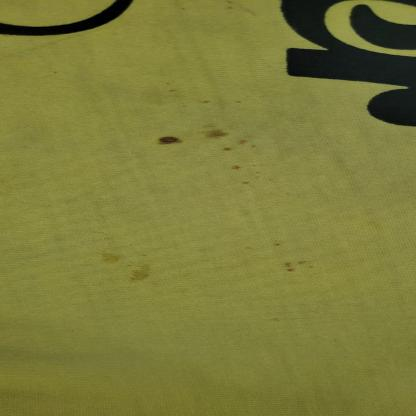spot: (116, 119, 287, 190), (87, 126, 262, 140), (171, 102, 227, 141), (116, 237, 154, 286), (146, 117, 196, 154), (226, 157, 263, 182), (279, 256, 327, 274), (220, 143, 246, 175), (91, 249, 132, 265), (192, 96, 261, 104), (269, 235, 294, 251)
